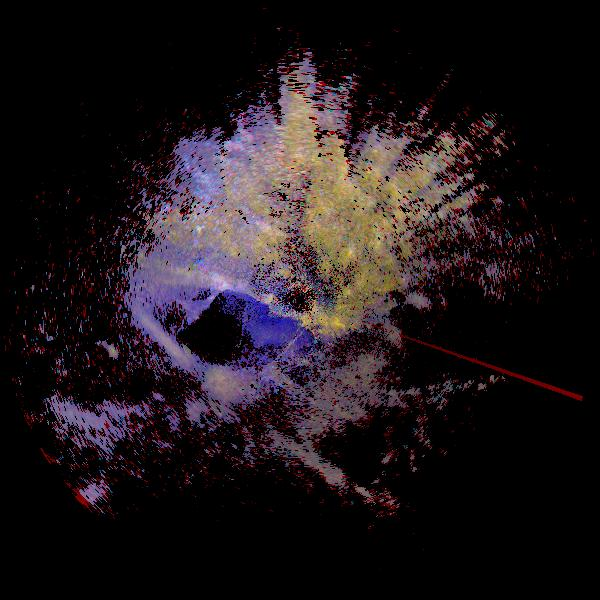roost: (74, 340, 137, 403)
